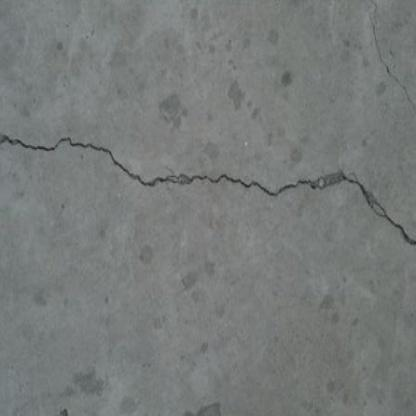Cracks: (0, 107, 416, 270), (352, 0, 416, 142)
